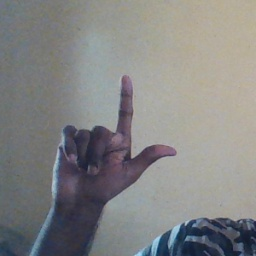L: (44, 73, 177, 204)
